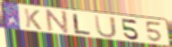5: (144, 20, 164, 44), (120, 18, 140, 41)
K: (23, 8, 43, 31)
L: (72, 13, 92, 36)
N: (46, 9, 70, 36)
U: (94, 15, 119, 39)
